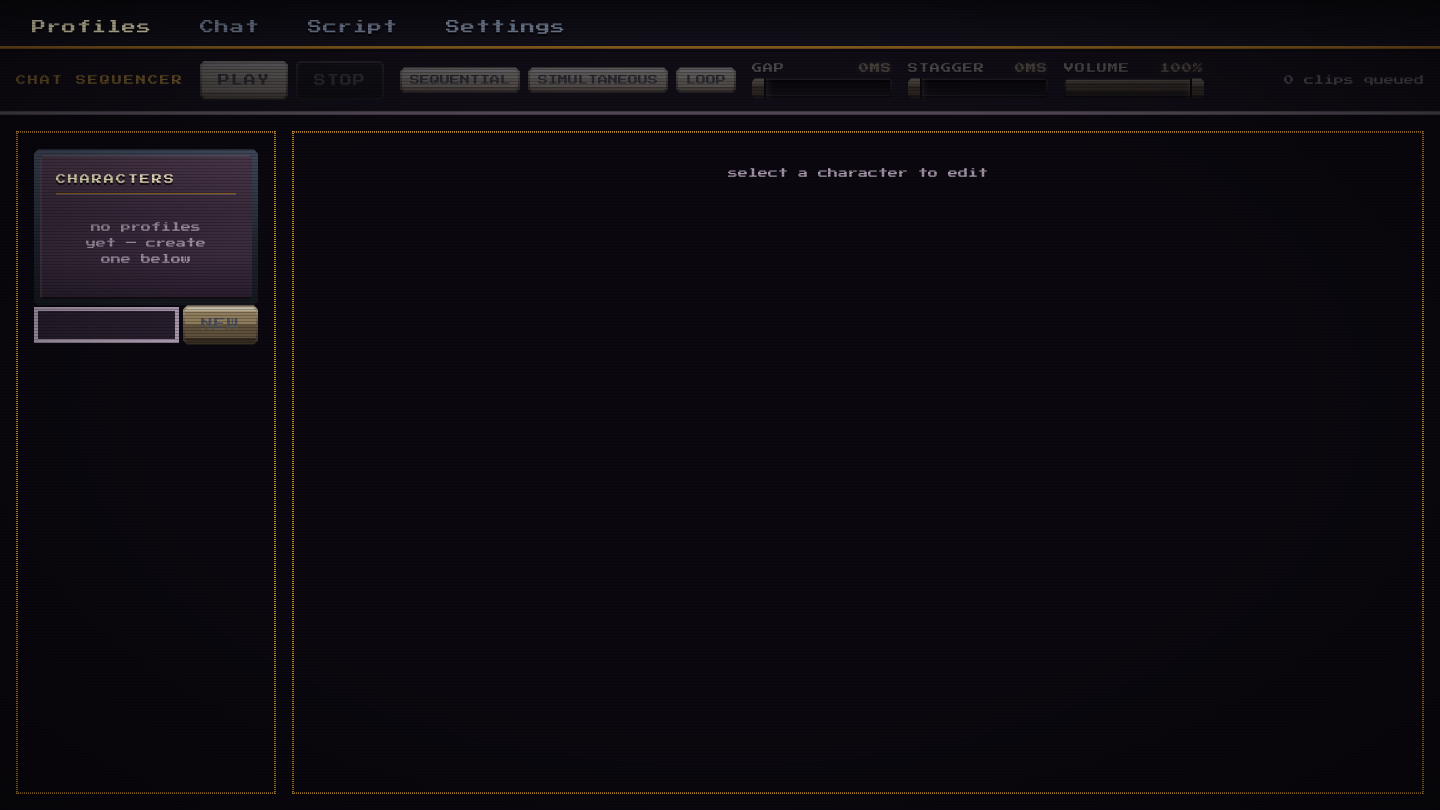
Scenario: App › switches to the Chat screen
The image size is (1440, 810).
Click the tab "Chat".
click(230, 27)  # box [184,8,276,46]
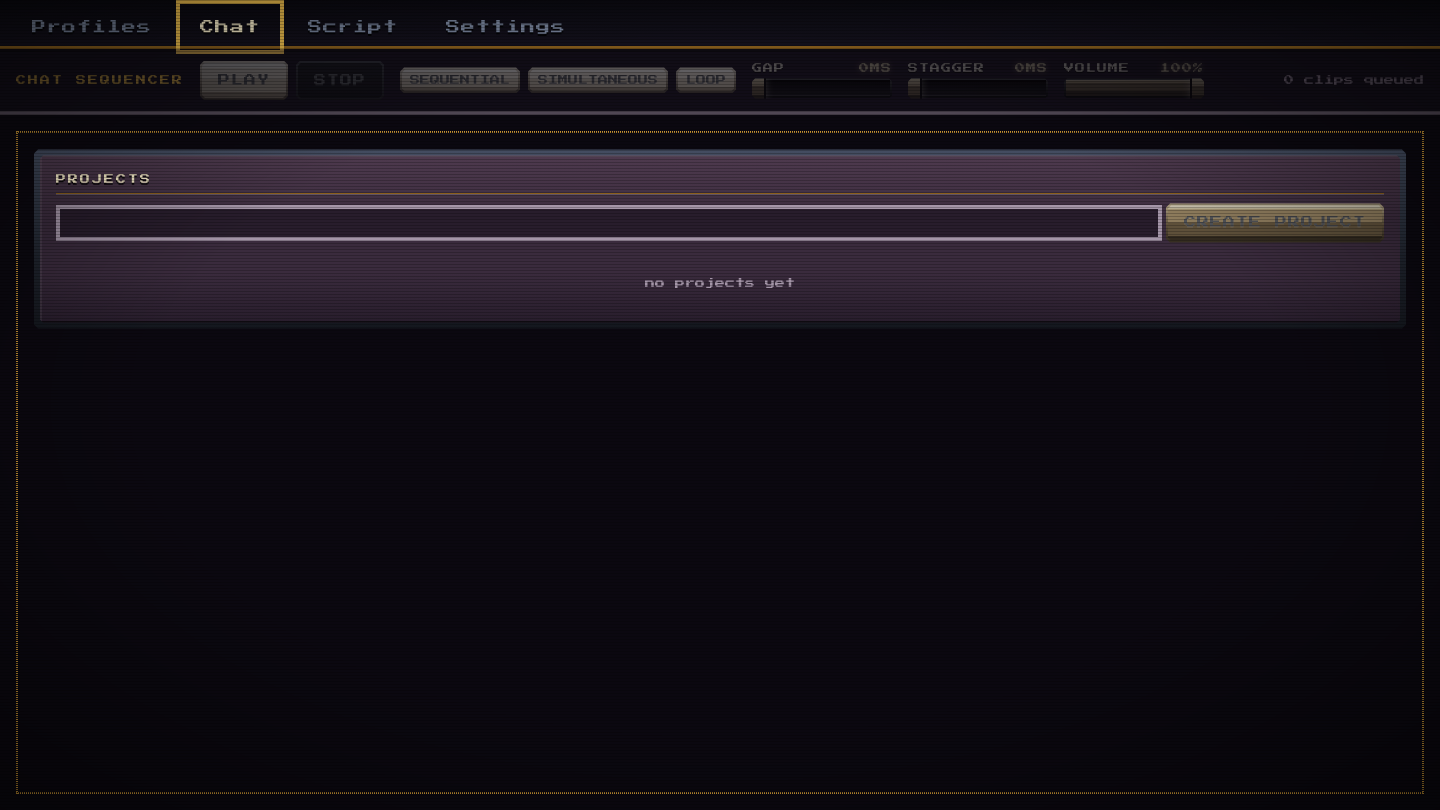
Expected: the field named "New project name" is shown, [56,205,1162,241]
